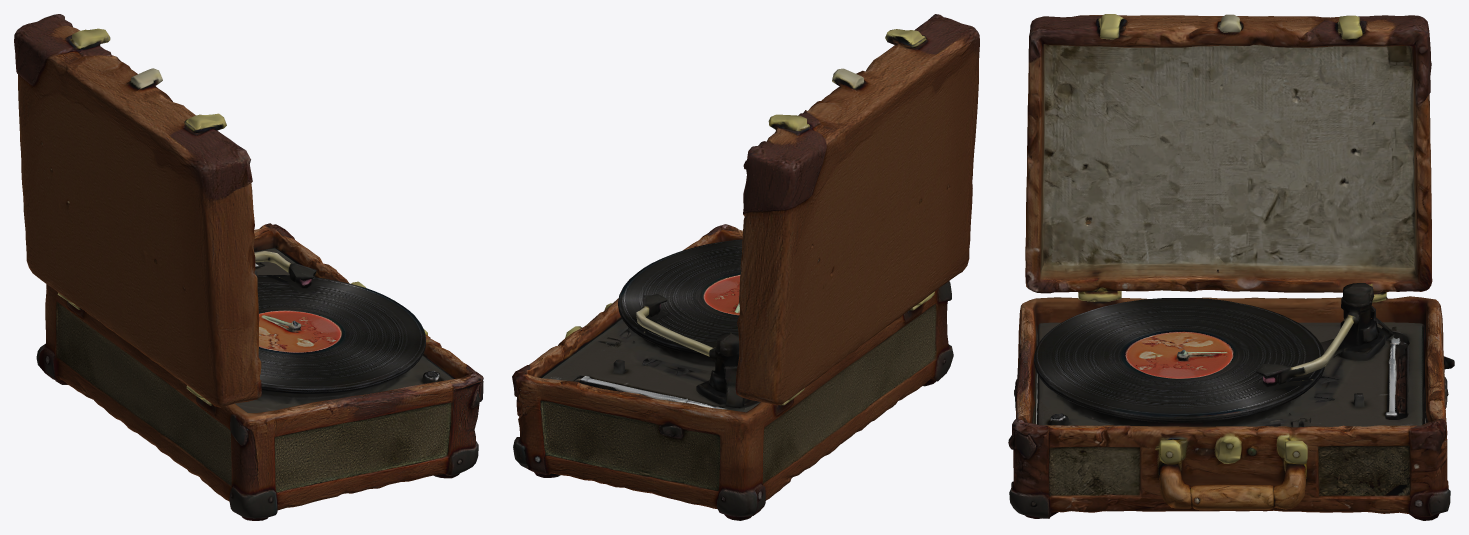
3 views of the same model, side by side, from view 1: azimuth 30°, elevation 25°; view 2: azimuth 150°, elevation 25°; view 3: azimuth 270°, elevation 25° (orthographic). The views are drawn at different scales.
Visible parts, largest first — view 1: tripo_node_c149d93d-ad48-4624-bfdf-370fc31d89c1; view 2: tripo_node_c149d93d-ad48-4624-bfdf-370fc31d89c1; view 3: tripo_node_c149d93d-ad48-4624-bfdf-370fc31d89c1.
Part boxes in pixels (x1,y1,x2,y2): tripo_node_c149d93d-ad48-4624-bfdf-370fc31d89c1: (14,14,483,520); tripo_node_c149d93d-ad48-4624-bfdf-370fc31d89c1: (512,14,979,520); tripo_node_c149d93d-ad48-4624-bfdf-370fc31d89c1: (1008,14,1454,520).
Size of the model in its own units: 0.8051 by 0.9799 by 1.
1 material, 1 textured.
